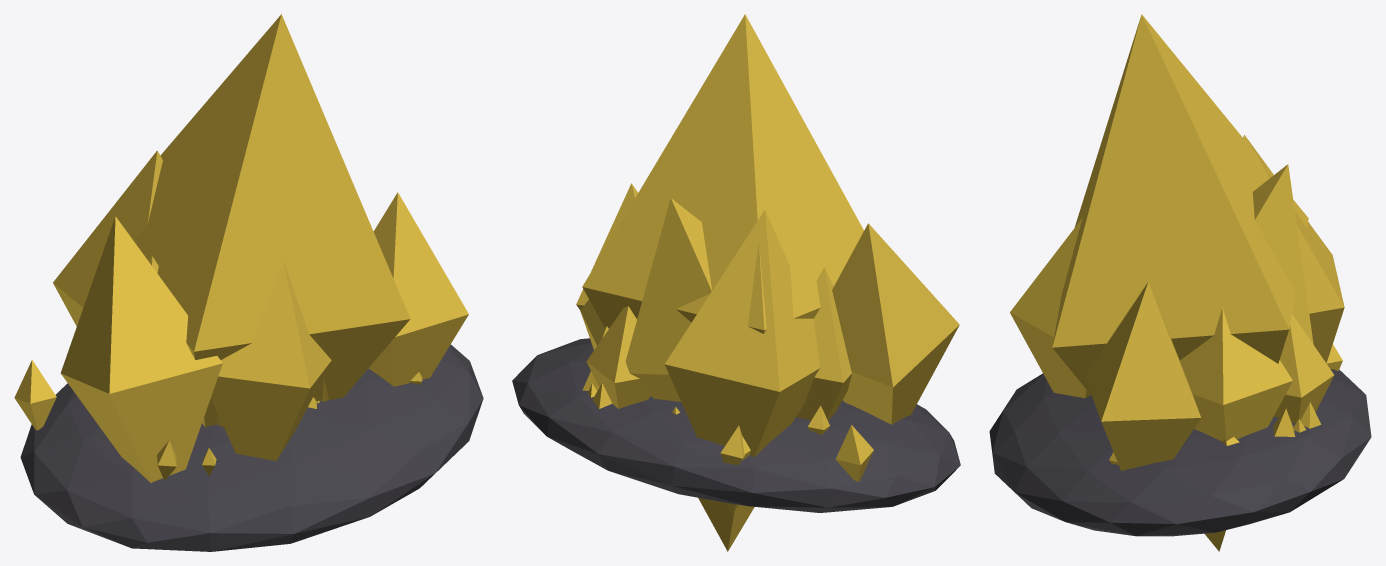
Rendered from sulfur.glb.
3 views of the same model, side by side, from view 1: azimuth 30°, elevation 25°; view 2: azimuth 150°, elevation 25°; view 3: azimuth 270°, elevation 25° (orthographic). The views are drawn at different scales.
Parts seen in each view (by area): view 1: Sulfur tự sinh; view 2: Sulfur tự sinh; view 3: Sulfur tự sinh.
Part boxes in pixels (x1,y1,x2,y2): Sulfur tự sinh: [14, 14, 483, 551]; Sulfur tự sinh: [512, 14, 960, 551]; Sulfur tự sinh: [989, 14, 1371, 551].
Size of the model in its own units: 3.96 by 4.8 by 3.03.
